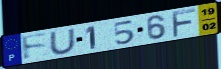1: (85, 25, 97, 50)
5: (113, 18, 136, 46)
6: (145, 14, 168, 41)
F: (20, 31, 50, 62), (171, 8, 198, 39)
U: (48, 27, 78, 55)
